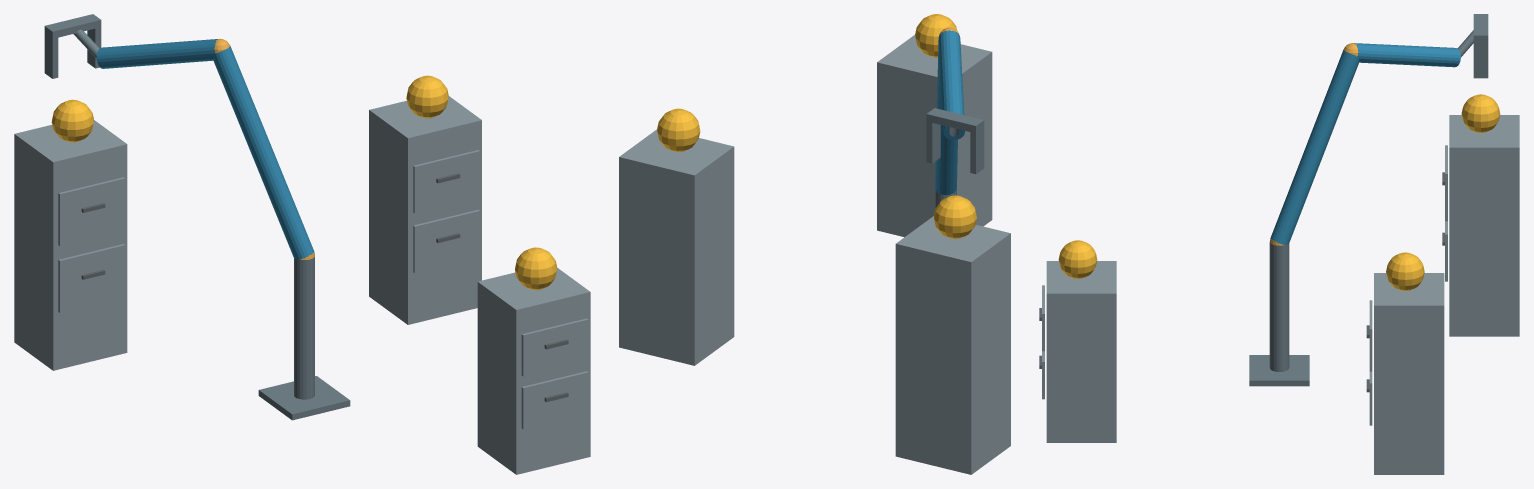
The picture shows the model from 3 angles, left to right: view 1: azimuth 30°, elevation 25°; view 2: azimuth 150°, elevation 25°; view 3: azimuth 270°, elevation 25°; orthographic projection. The views are drawn at different scales.
Visible parts, largest first — view 1: cabinet_3 body, cabinet_2 body, cabinet_1 body, moving link 1, cabinet_3 drawer front.001, cabinet_3 drawer front, cabinet_2 drawer front.001, cabinet_2 drawer front, fixed post, cabinet_1 drawer front, cabinet_1 drawer front.001, moving link 2 (+6 smaller); view 2: cabinet_3 body, cabinet_2 body, cabinet_1 body, moving link 2, released ball_2, ball ball_3, moving link 1, released ball_1, gripper bridge, gripper finger -1, gripper finger 1; view 3: cabinet_3 body, cabinet_2 body, cabinet_1 body, moving link 1, fixed post, moving link 2, pedestal, ball ball_3, released ball_1, released ball_2, gripper finger 1.
Part boxes in pixels (<box>): cabinet_3 body: <box>14,120,127,370</box>; cabinet_2 body: <box>369,96,481,324</box>; cabinet_1 body: <box>477,268,590,474</box>; moving link 1: <box>213,46,314,259</box>; cabinet_3 drawer front.001: <box>58,177,125,246</box>; cabinet_3 drawer front: <box>58,244,125,312</box>; cabinet_2 drawer front.001: <box>413,150,479,213</box>; cabinet_2 drawer front: <box>413,209,479,273</box>; fixed post: <box>294,257,314,399</box>; cabinet_1 drawer front: <box>521,371,588,429</box>; cabinet_1 drawer front.001: <box>521,318,588,376</box>; moving link 2: <box>96,39,217,68</box>; cabinet_3 body: <box>895,216,1010,474</box>; cabinet_2 body: <box>619,129,734,365</box>; cabinet_1 body: <box>877,35,992,237</box>; moving link 2: <box>938,30,964,140</box>; released ball_2: <box>657,108,700,152</box>; ball ball_3: <box>933,195,976,238</box>; moving link 1: <box>935,40,957,195</box>; released ball_1: <box>915,14,957,57</box>; gripper bridge: <box>926,108,984,133</box>; gripper finger -1: <box>970,128,984,174</box>; gripper finger 1: <box>926,121,940,163</box>; cabinet_3 body: <box>1449,115,1519,336</box>; cabinet_2 body: <box>1374,273,1444,474</box>; cabinet_1 body: <box>1046,261,1116,442</box>; moving link 1: <box>1270,49,1359,245</box>; fixed post: <box>1269,242,1289,371</box>; moving link 2: <box>1354,43,1460,67</box>; pedestal: <box>1249,355,1309,386</box>; ball ball_3: <box>1461,94,1500,132</box>; released ball_1: <box>1058,240,1097,278</box>; released ball_2: <box>1386,252,1424,290</box>; gripper finger 1: <box>1473,42,1488,78</box>.
Size of the model in its own units: 1.67 by 1.41 by 1.98.
